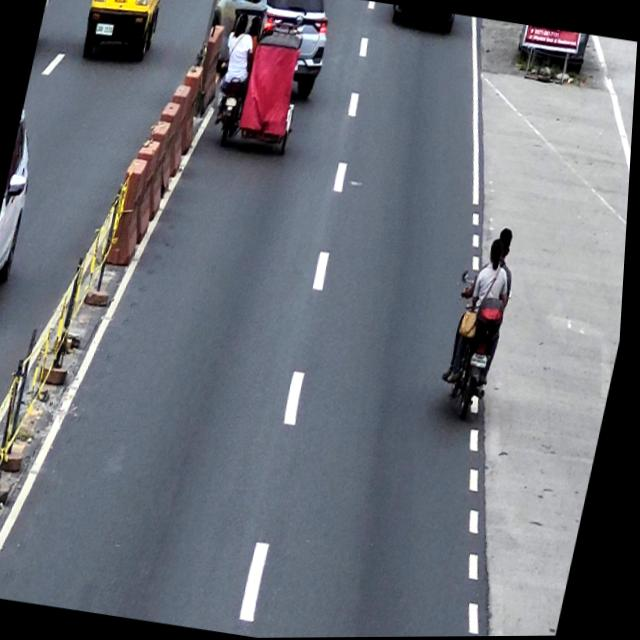Car: (196, 0, 339, 110)
License-Plate: (475, 353, 493, 370), (226, 97, 239, 108)
Motorcycle: (438, 271, 520, 423)
Tricycle: (205, 0, 318, 155)
